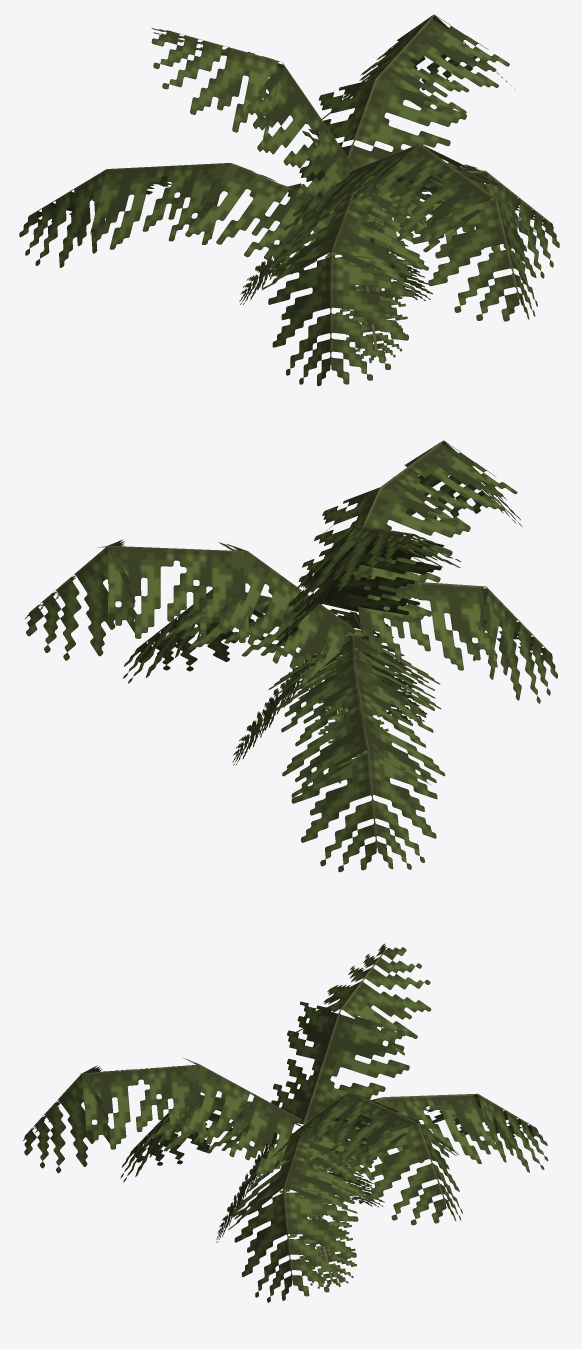
The model's file is date_palm_top_1.obj.
3 renders of one model, top to bottom at view 1: azimuth 30°, elevation 25°; view 2: azimuth 150°, elevation 25°; view 3: azimuth 270°, elevation 25°, orthographic. The views are drawn at different scales.
Visible parts, largest first — view 1: cube.300, cube.323, cube.299; view 2: cube.323, cube.299, cube.300; view 3: cube.299, cube.323, cube.300.
Part boxes in pixels (box(x1,y1,x2,y2)): cube.300: box(262, 143, 539, 386); cube.323: box(19, 28, 355, 304); cube.299: box(287, 14, 559, 300); cube.323: box(268, 525, 461, 872); cube.299: box(25, 539, 355, 765); cube.300: box(297, 440, 557, 722); cube.299: box(228, 1091, 462, 1302); cube.323: box(268, 943, 548, 1207); cube.300: box(23, 1058, 301, 1242).
Size of the model in its own units: 4.72 by 3.01 by 5.57.
